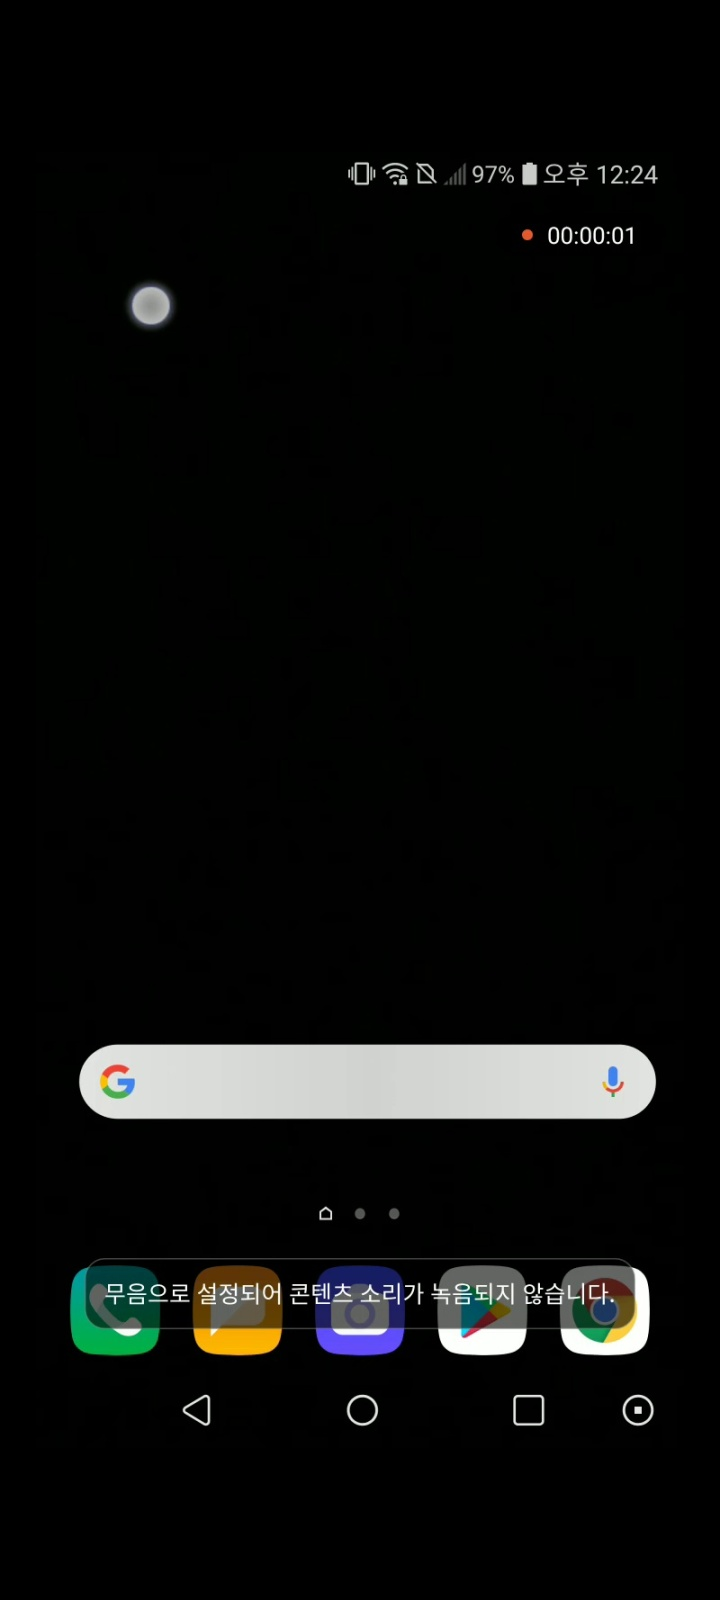Cursor: (128, 285, 174, 330)
